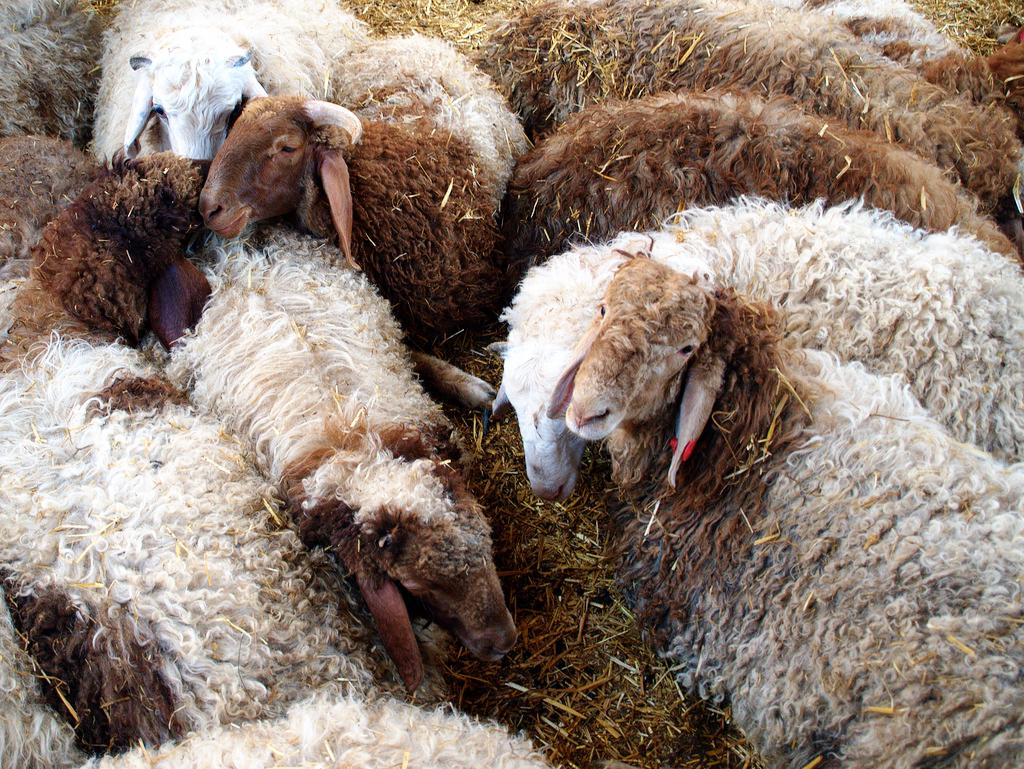Sheep: (576, 247, 1024, 769), (0, 277, 452, 728), (496, 205, 1024, 520), (186, 227, 532, 704), (495, 93, 1024, 320), (519, 0, 1024, 215), (200, 23, 527, 309), (43, 675, 583, 769), (190, 89, 508, 240), (93, 0, 341, 170)
